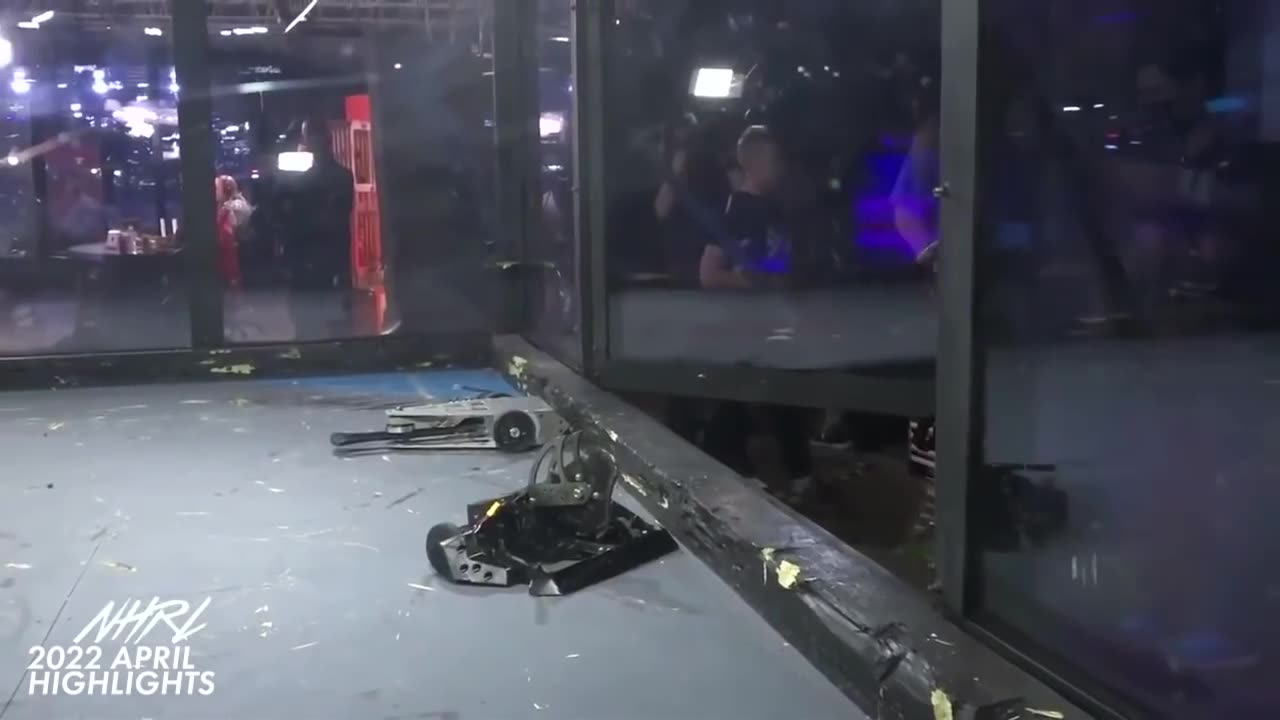combatbot: (419, 434, 679, 599), (331, 399, 555, 457)
